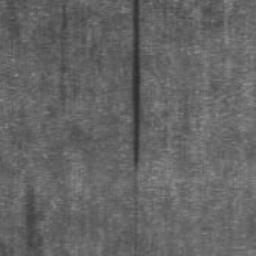Scratches: (133, 0, 141, 171)
